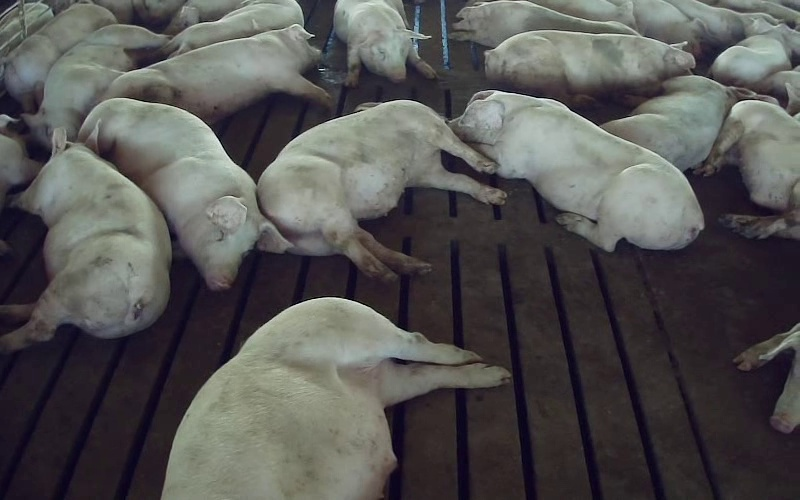pig: (162, 298, 509, 499), (449, 91, 703, 250), (0, 125, 170, 352), (23, 24, 168, 148), (601, 76, 776, 171), (485, 30, 694, 100), (702, 100, 799, 239), (5, 4, 116, 112), (449, 0, 637, 47), (334, 0, 436, 85), (710, 18, 799, 87)
